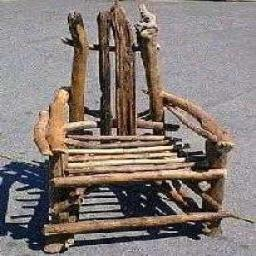Chair: (41, 8, 222, 237)
